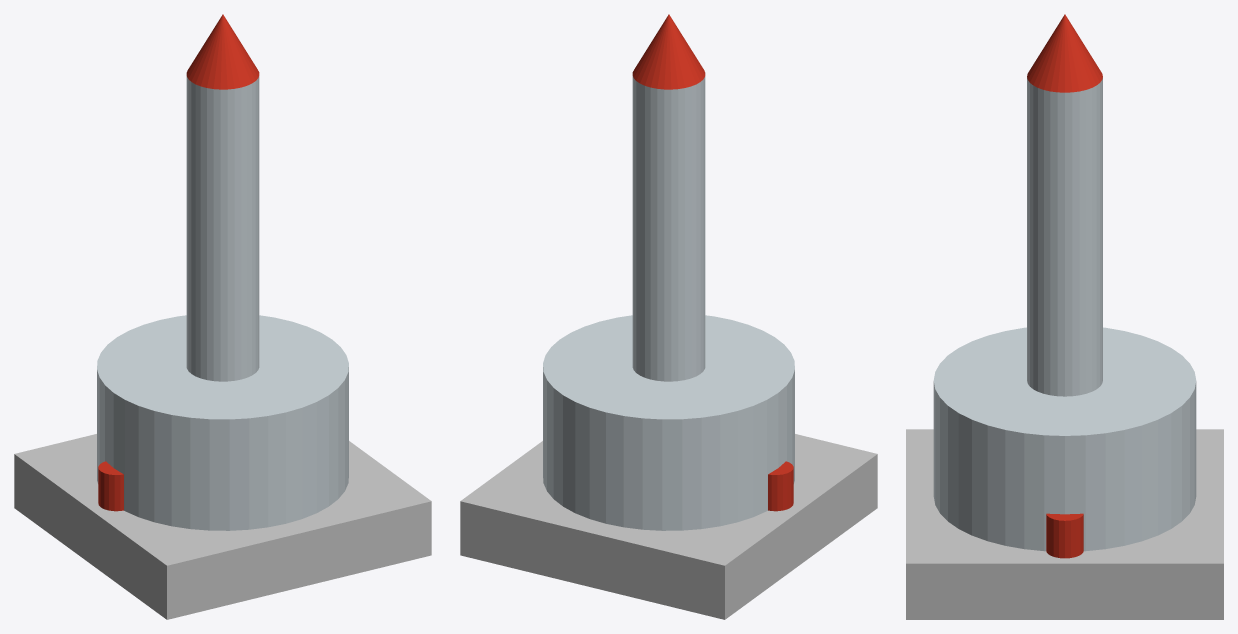
Rendered from icbm_silo.obj.
3 renders of one model, left to right at view 1: azimuth 30°, elevation 25°; view 2: azimuth 150°, elevation 25°; view 3: azimuth 270°, elevation 25°, orthographic. The views are drawn at different scales.
Visible parts, largest first — view 1: icbm_silo; view 2: icbm_silo; view 3: icbm_silo.
Boxes of the visible parts, x1=… form: icbm_silo: x1=14, y1=14, x2=431, y2=619; icbm_silo: x1=460, y1=14, x2=877, y2=619; icbm_silo: x1=906, y1=14, x2=1223, y2=619.
Bounding box in the file's own units: 0.92 × 1.72 × 0.92.
